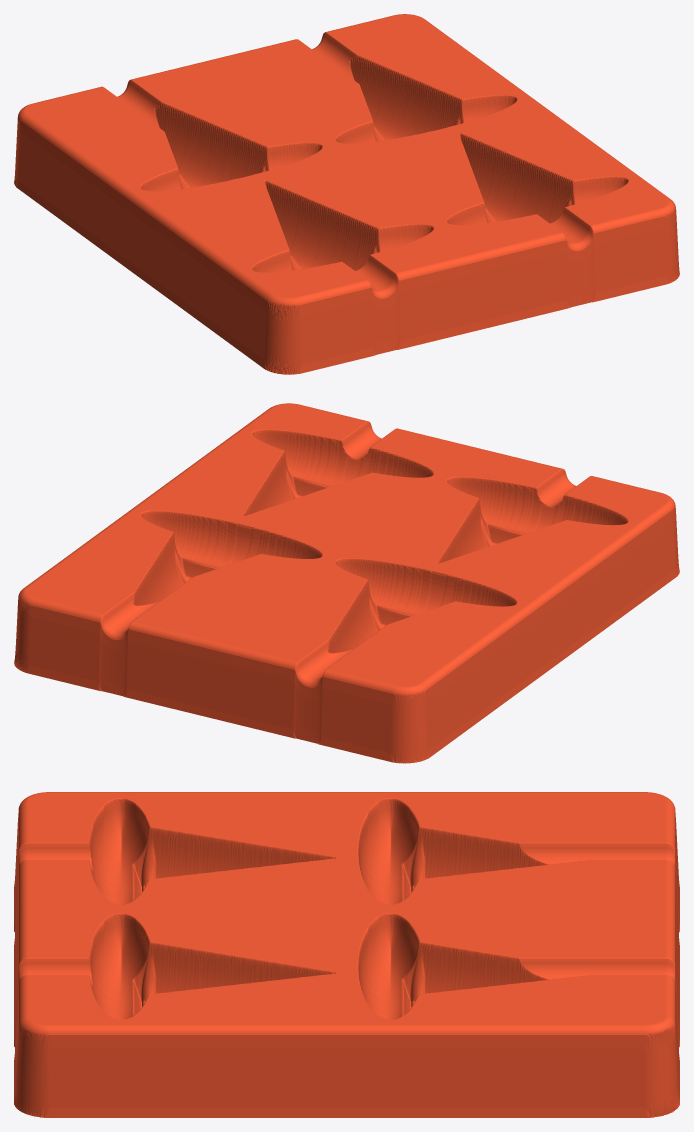
File: mold.glb
The picture shows the model from 3 angles, top to bottom: view 1: azimuth 30°, elevation 25°; view 2: azimuth 150°, elevation 25°; view 3: azimuth 270°, elevation 25°; orthographic projection. The views are drawn at different scales.
Visible parts, largest first — view 1: geometry_0; view 2: geometry_0; view 3: geometry_0.
Boxes of the visible parts, x1=… form: geometry_0: x1=14, y1=14, x2=679, y2=374; geometry_0: x1=14, y1=403, x2=679, y2=763; geometry_0: x1=14, y1=792, x2=679, y2=1117.
Bounding box in the file's own units: 0.1468 × 0.0245 × 0.1695.
